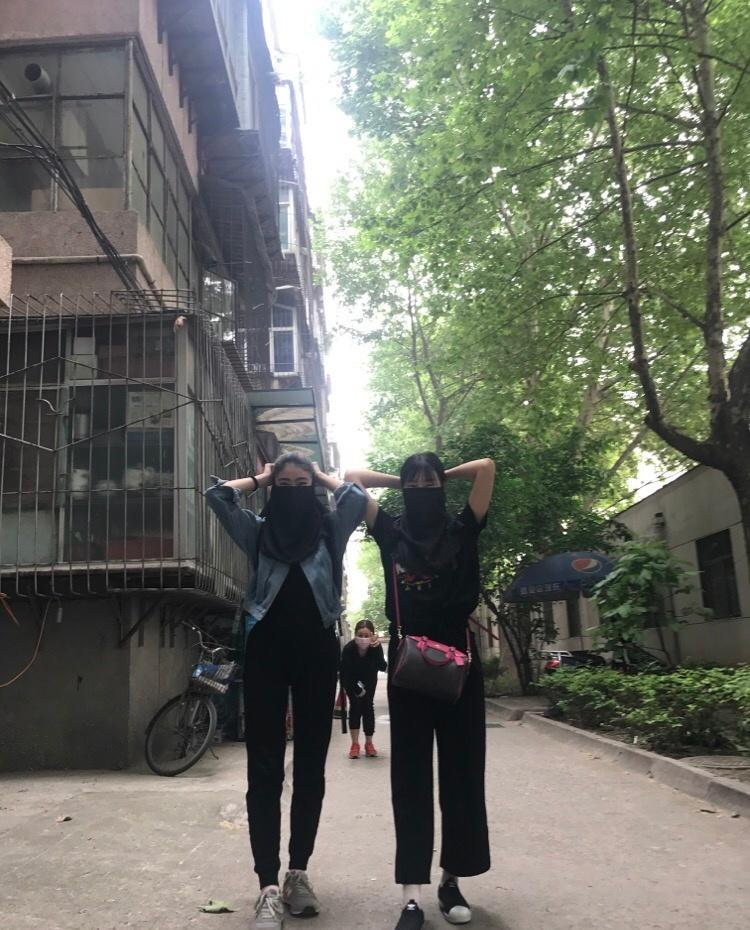OK: (404, 474, 445, 516), (274, 474, 315, 515), (356, 631, 376, 649)
